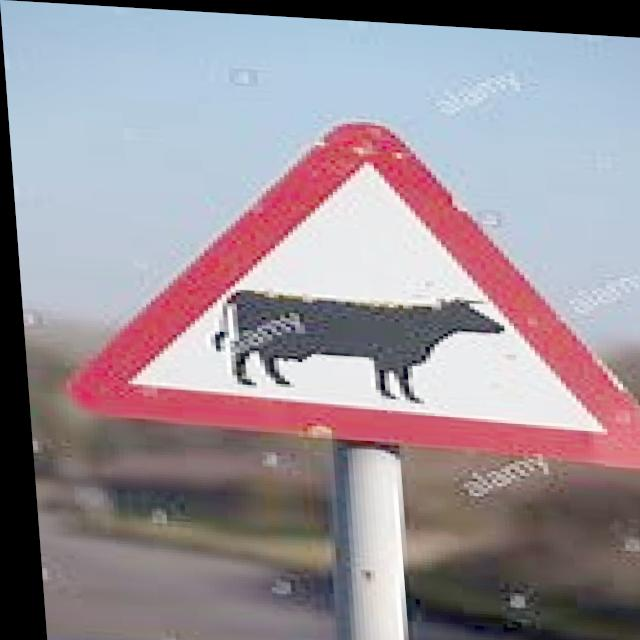CATTLE: (24, 90, 640, 462)
